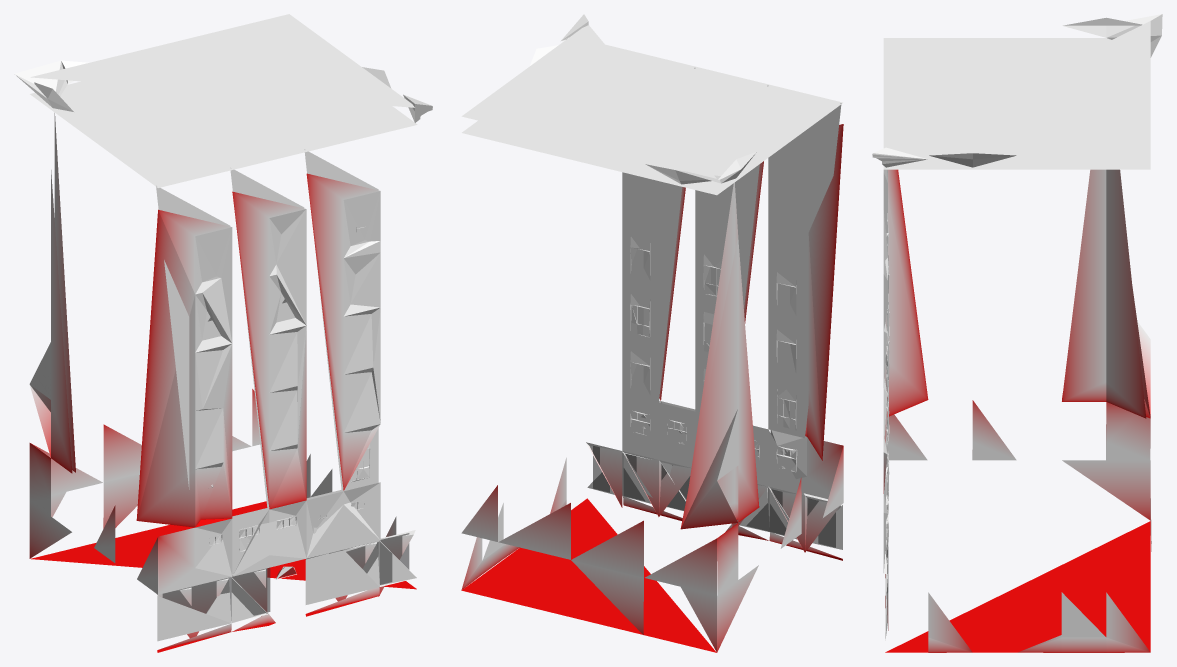
The model's file is building-medium.glb.
3 views of the same model, side by side, from view 1: azimuth 30°, elevation 25°; view 2: azimuth 150°, elevation 25°; view 3: azimuth 270°, elevation 25° (orthographic). The views are drawn at different scales.
Parts seen in each view (by area): view 1: Building_Medium_2.001; view 2: Building_Medium_2.001; view 3: Building_Medium_2.001.
Part boxes in pixels (<box>): Building_Medium_2.001: <box>14,14,432,652</box>; Building_Medium_2.001: <box>461,14,843,652</box>; Building_Medium_2.001: <box>872,14,1162,652</box>.
Size of the model in its own units: 15.04 by 25.01 by 13.04.
